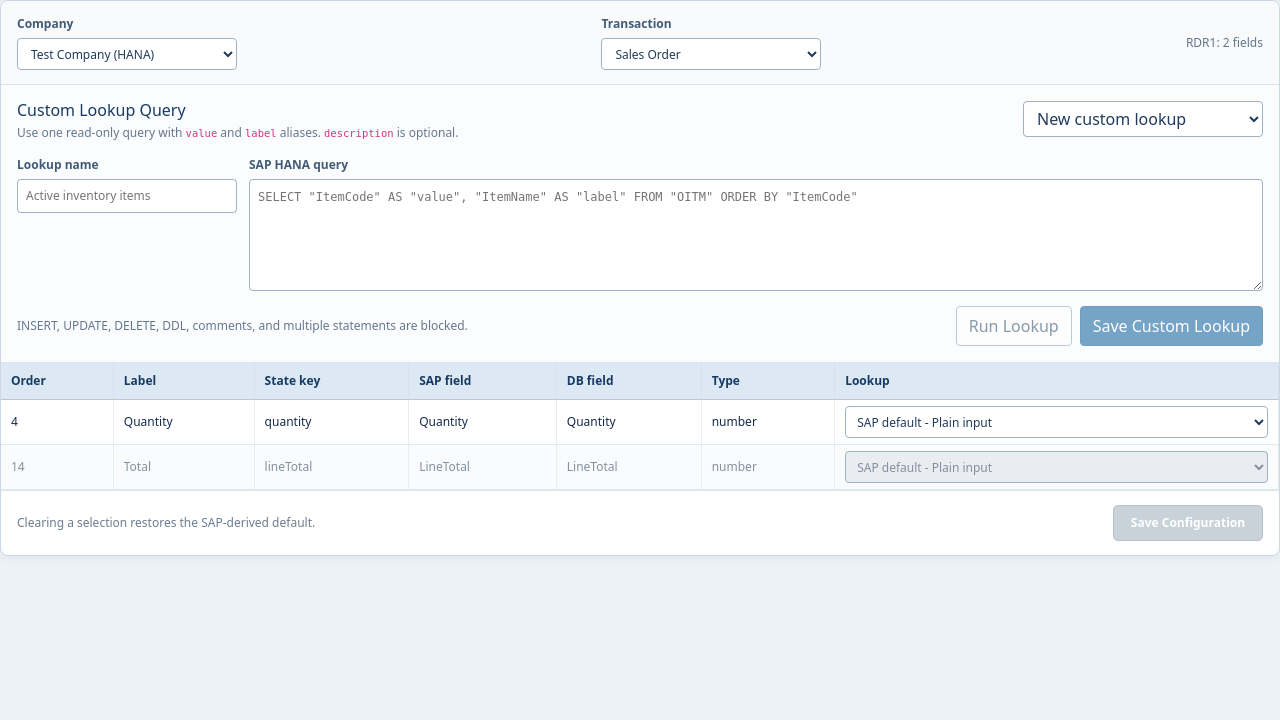
Test case: selects an Admin company and transaction and saves a line lookup assignment
The width and height of the screenshot is (1280, 720).
Expected: the dropdown named "Total lookup" is disabled, [845, 451, 1268, 483]
Select "Warehouses" in the dropdown named "Quantity lookup" at (1057, 422), box [845, 406, 1268, 438]
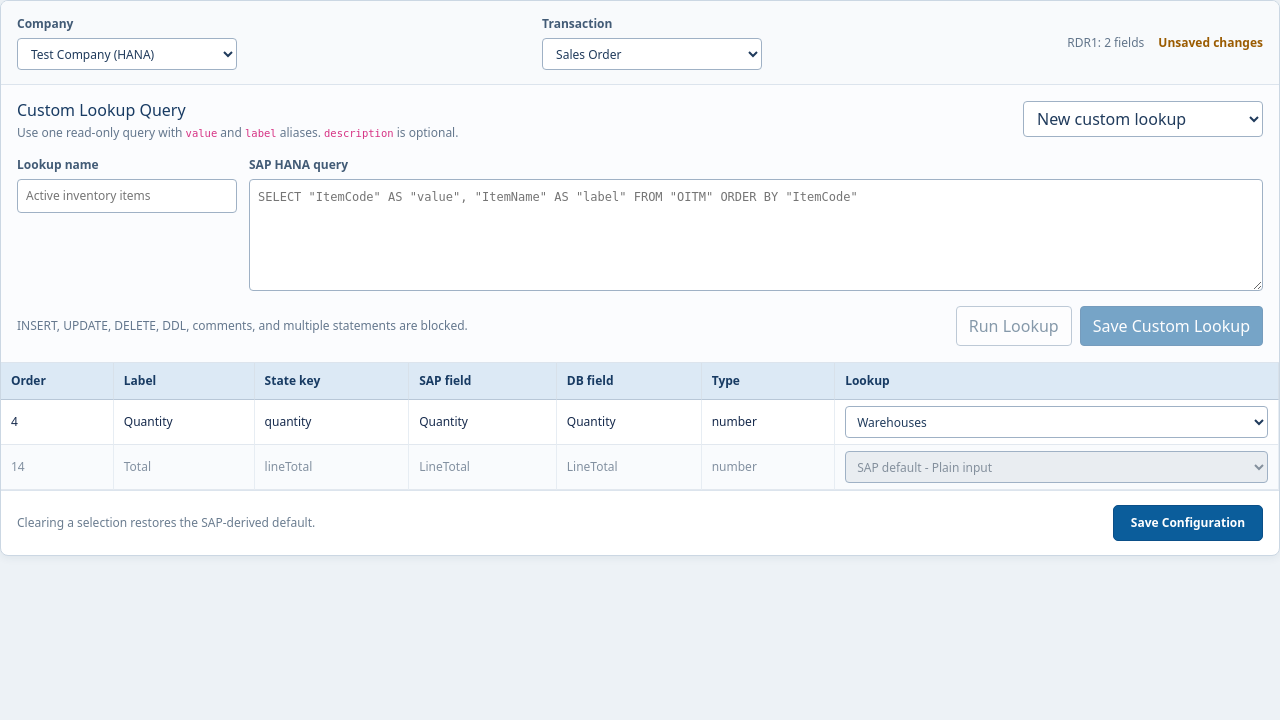
Click the button "Save Configuration".
click(1188, 523)  # box [1113, 505, 1263, 541]
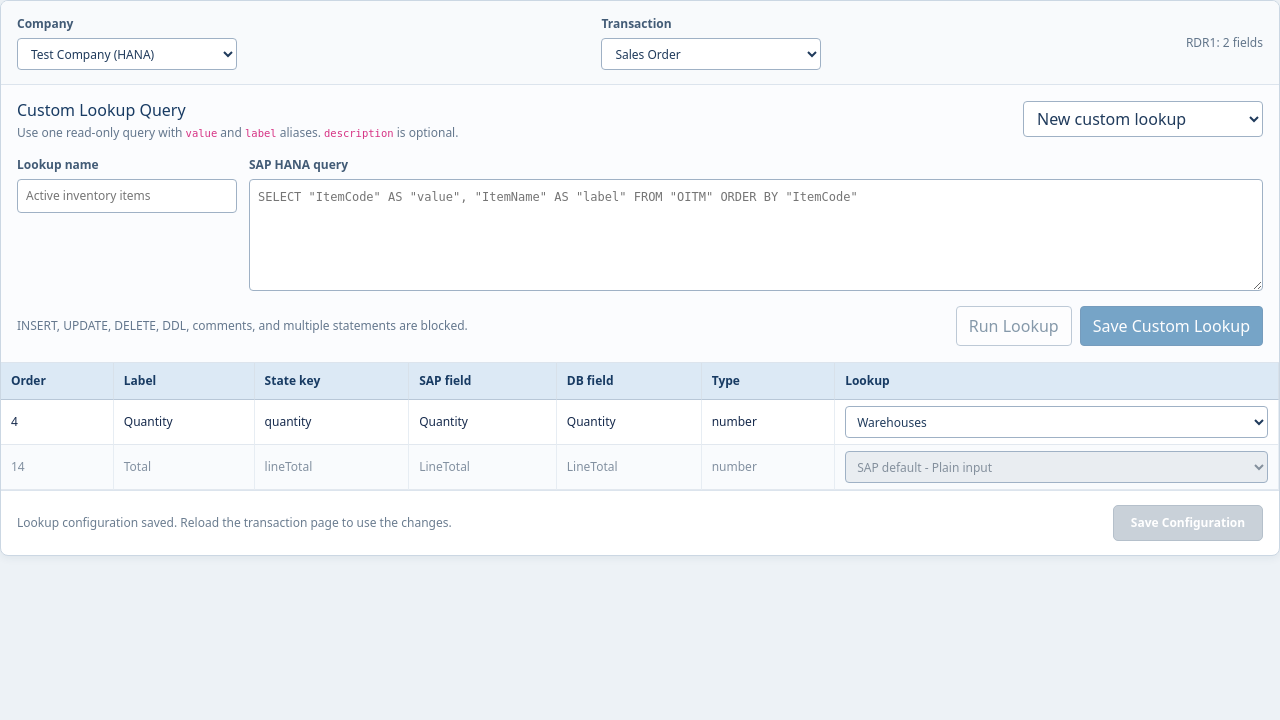
Expected: the text "Lookup configuration saved" is shown, [17, 514, 452, 531]
